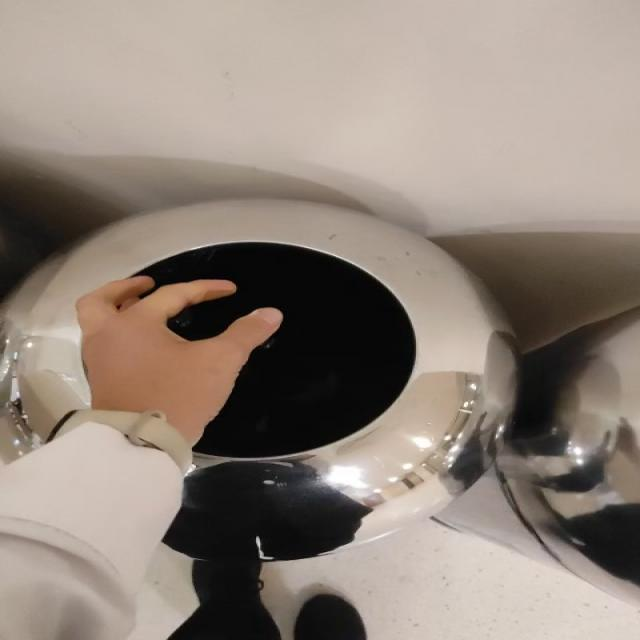bin: (3, 200, 517, 561)
